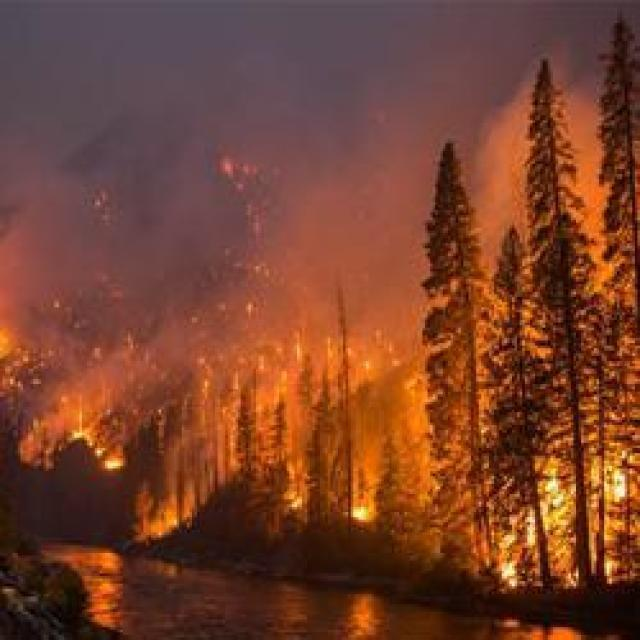Fire: (4, 0, 472, 543), (0, 300, 468, 520), (508, 443, 633, 597)
Smoke: (476, 98, 640, 301)
